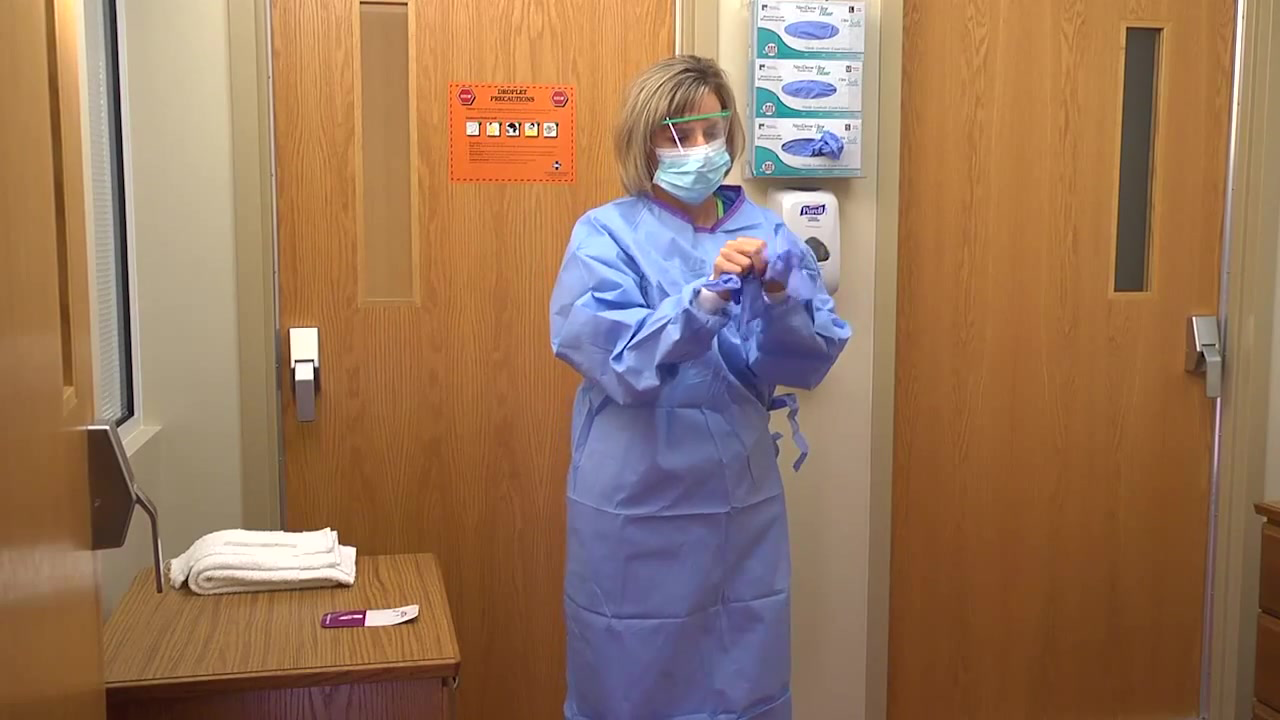Coverall: (532, 181, 824, 716)
Face_Shield: (642, 104, 762, 203)
with_mask: (656, 126, 731, 203)
